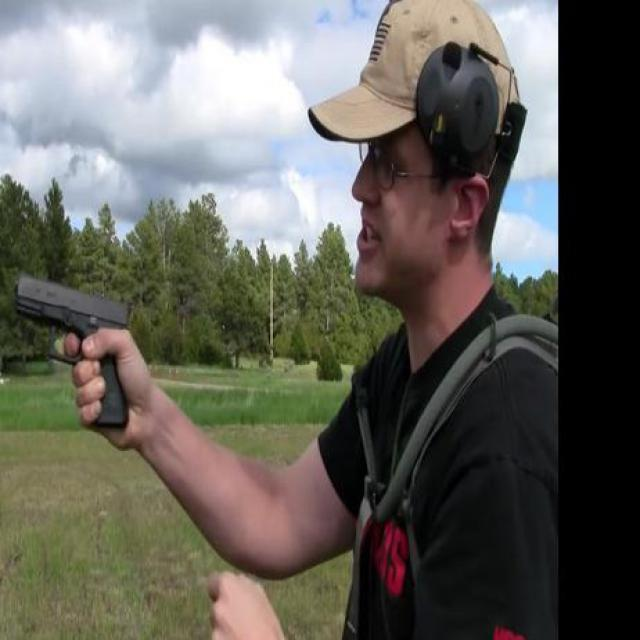weapon: (12, 274, 134, 434)
